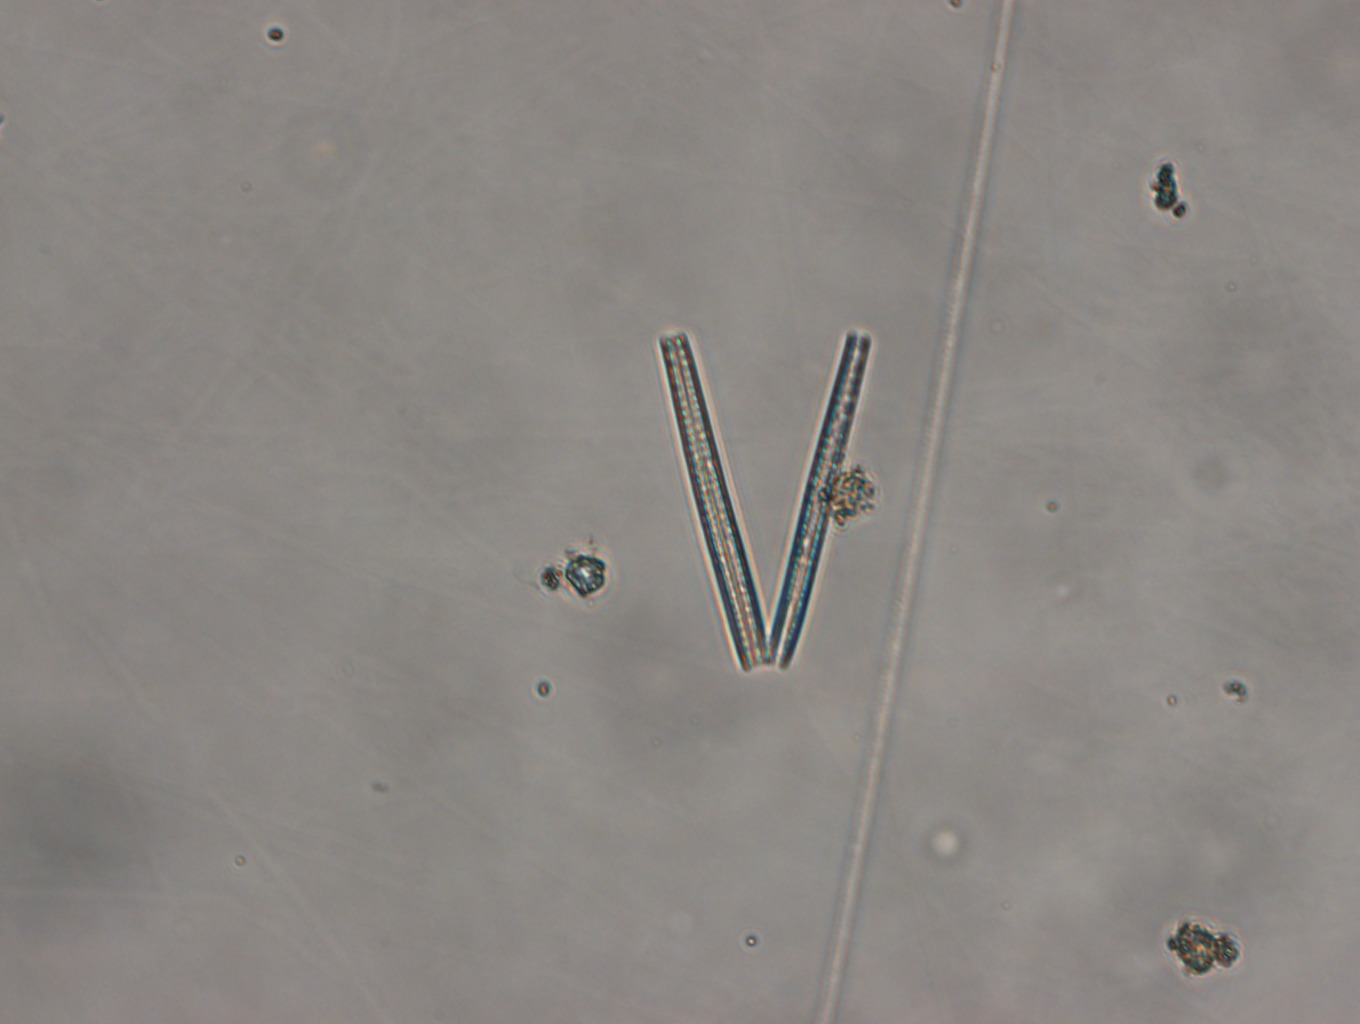thalassionema nitzschioides: (658, 328, 871, 675)
